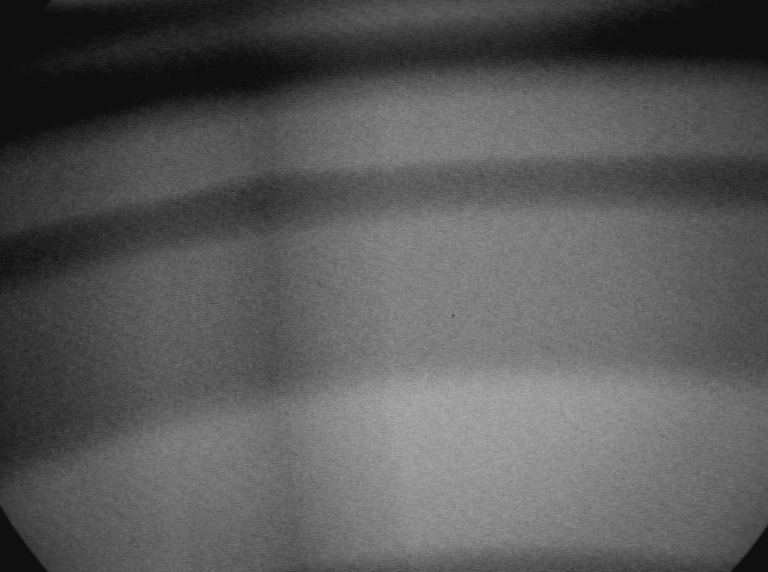defect: (168, 9, 387, 565)
